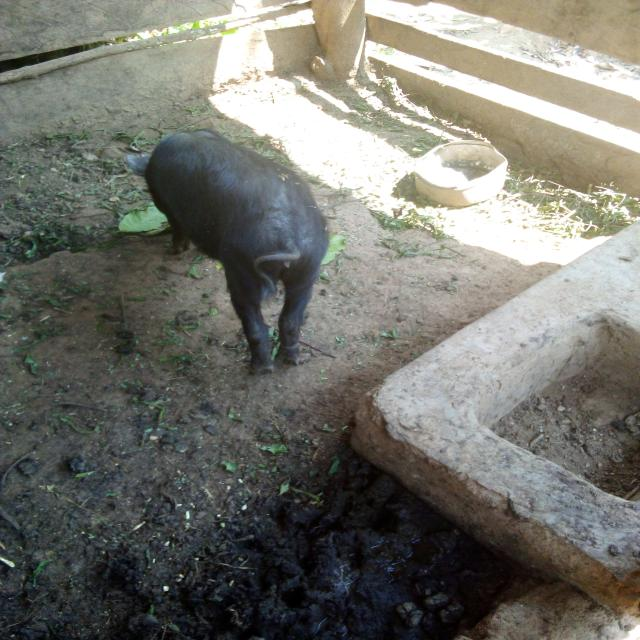goat: (87, 104, 377, 409)
